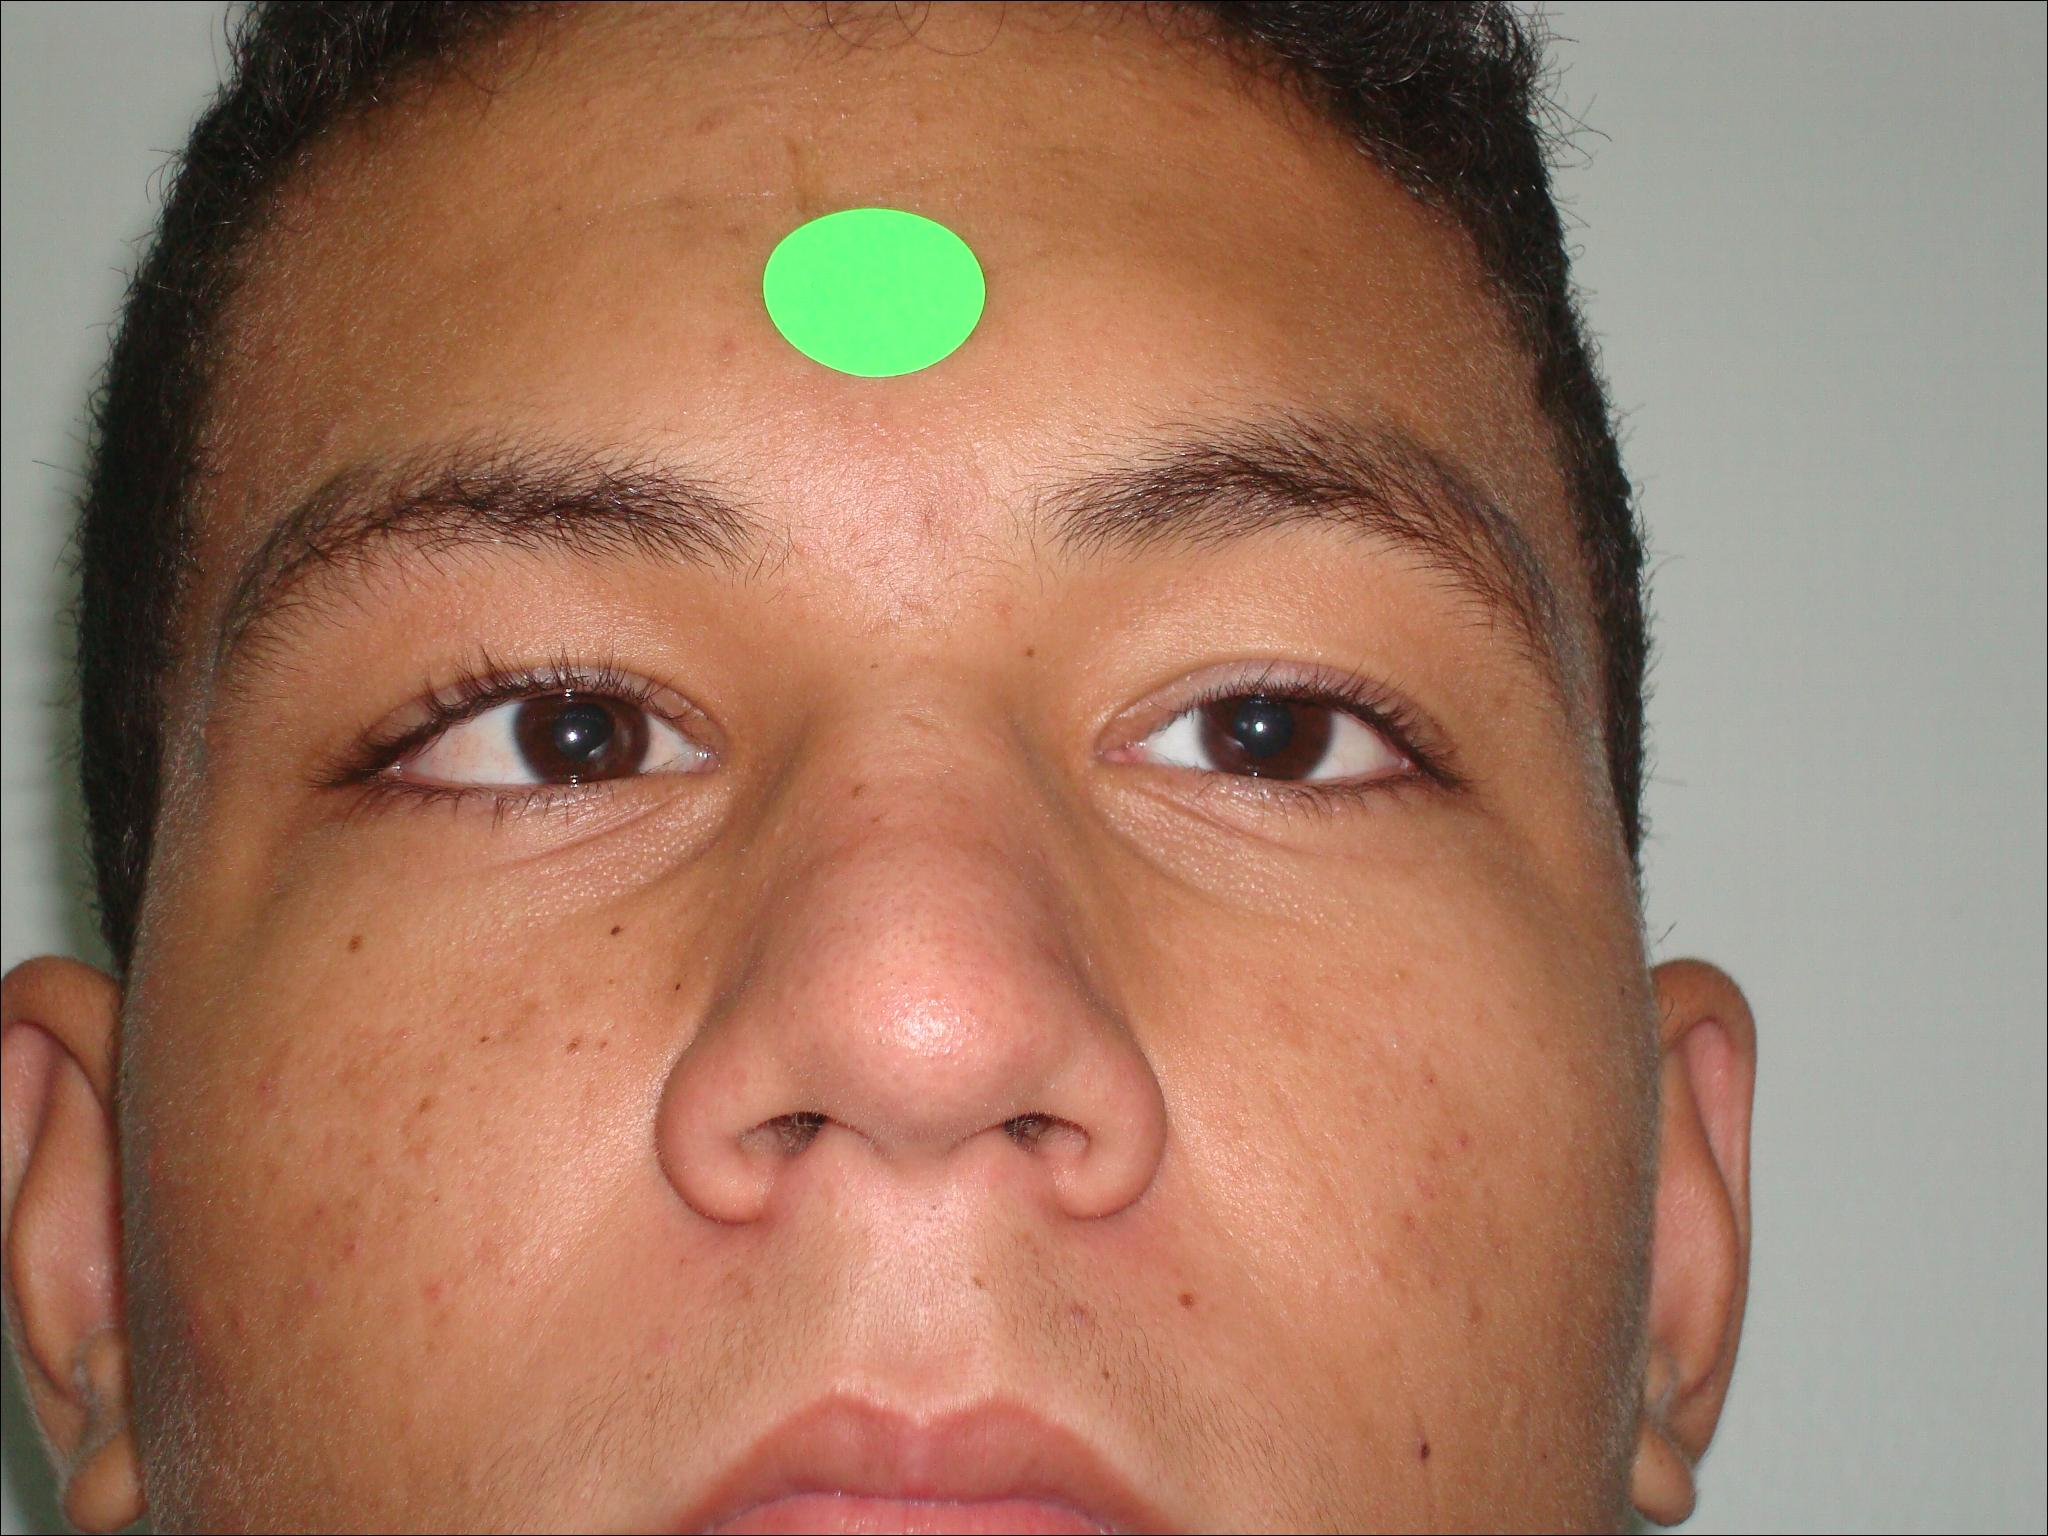flash: (1250, 716, 1271, 737), (563, 726, 582, 745)
limbo: (518, 673, 648, 789), (1198, 673, 1326, 783)
